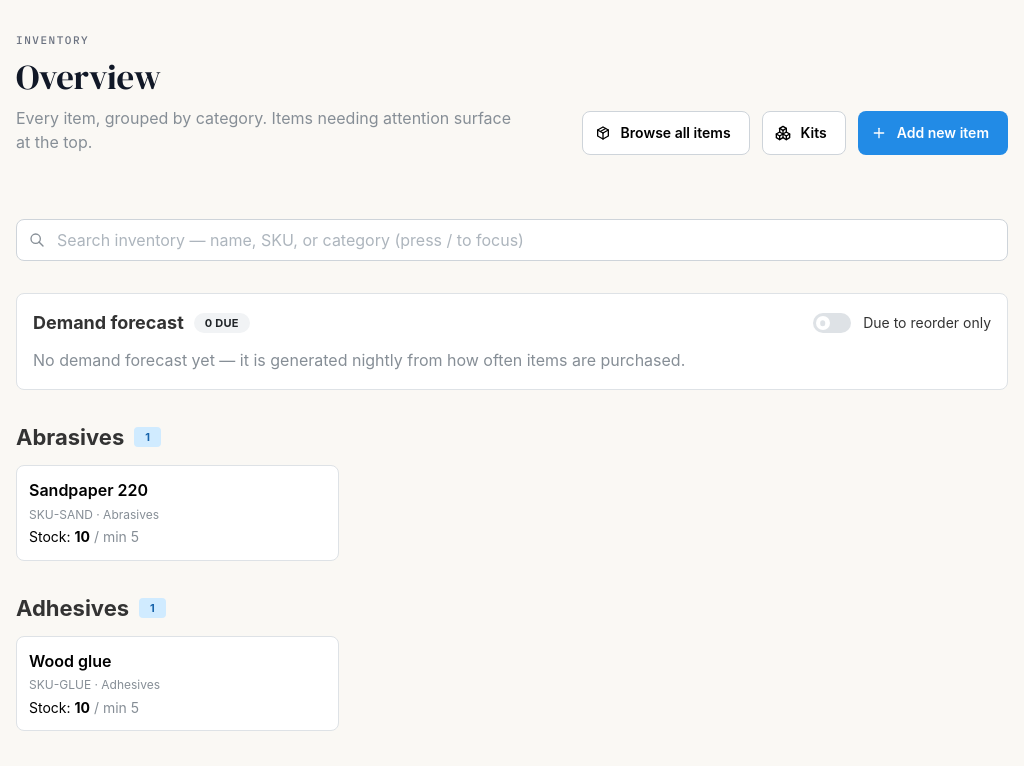
Test: InventoryOverviewPage search › search matches SKU
Step 1. Type "sku-sand" into the field labelled "Search inventory" → (512, 240), box [16, 219, 1008, 261]
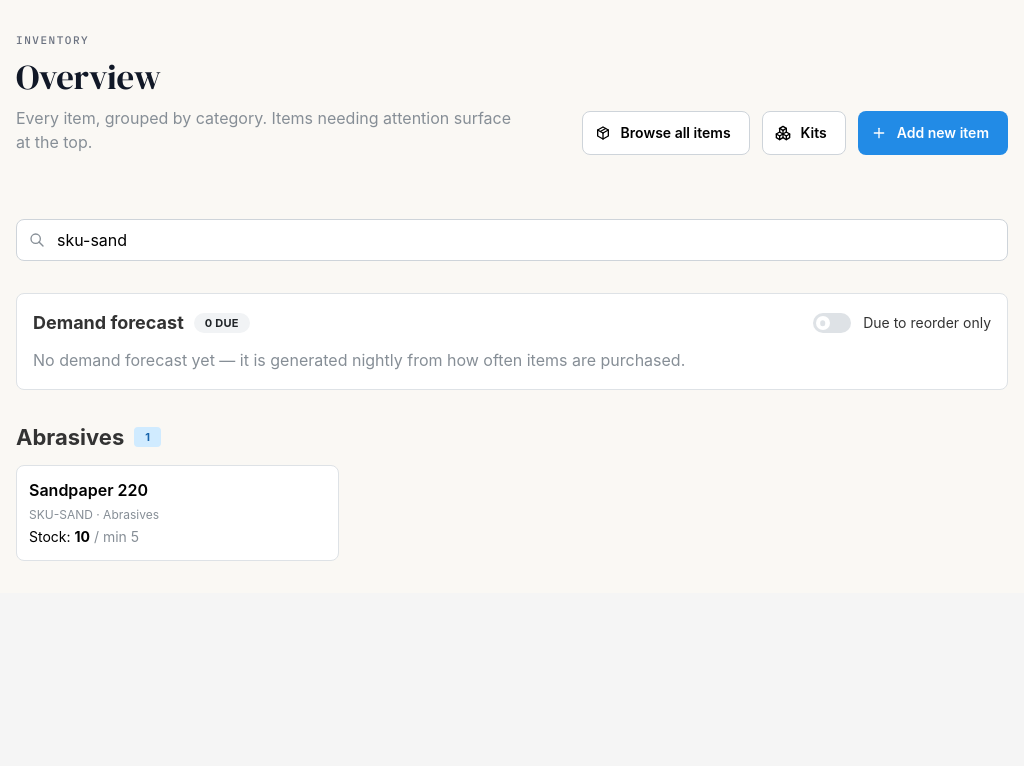
Check: the text "Sandpaper 220" is shown, box [29, 478, 148, 503]
Check: the text "Wood glue" is gone
